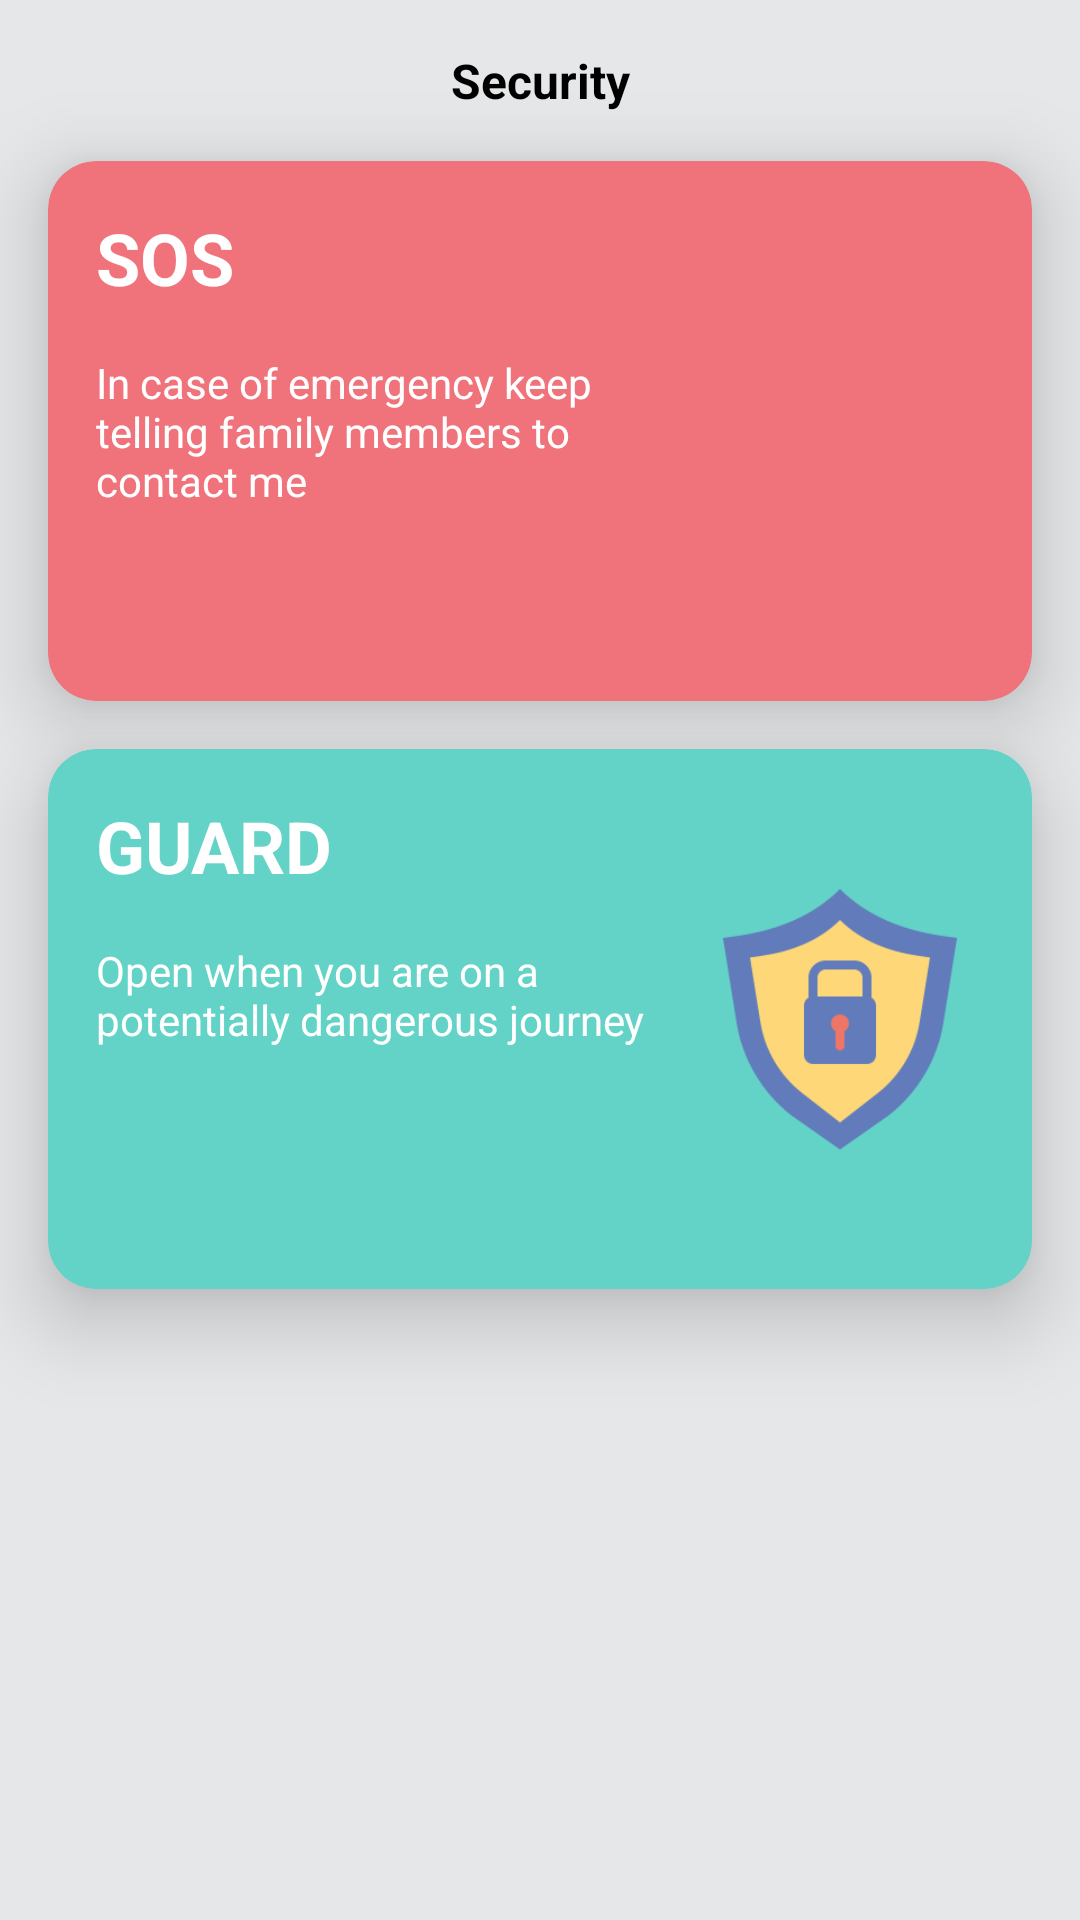

Point at icon controls on the screen. Image size 1080w x 1920h, points as [x,y].
guard: [840,1019]
